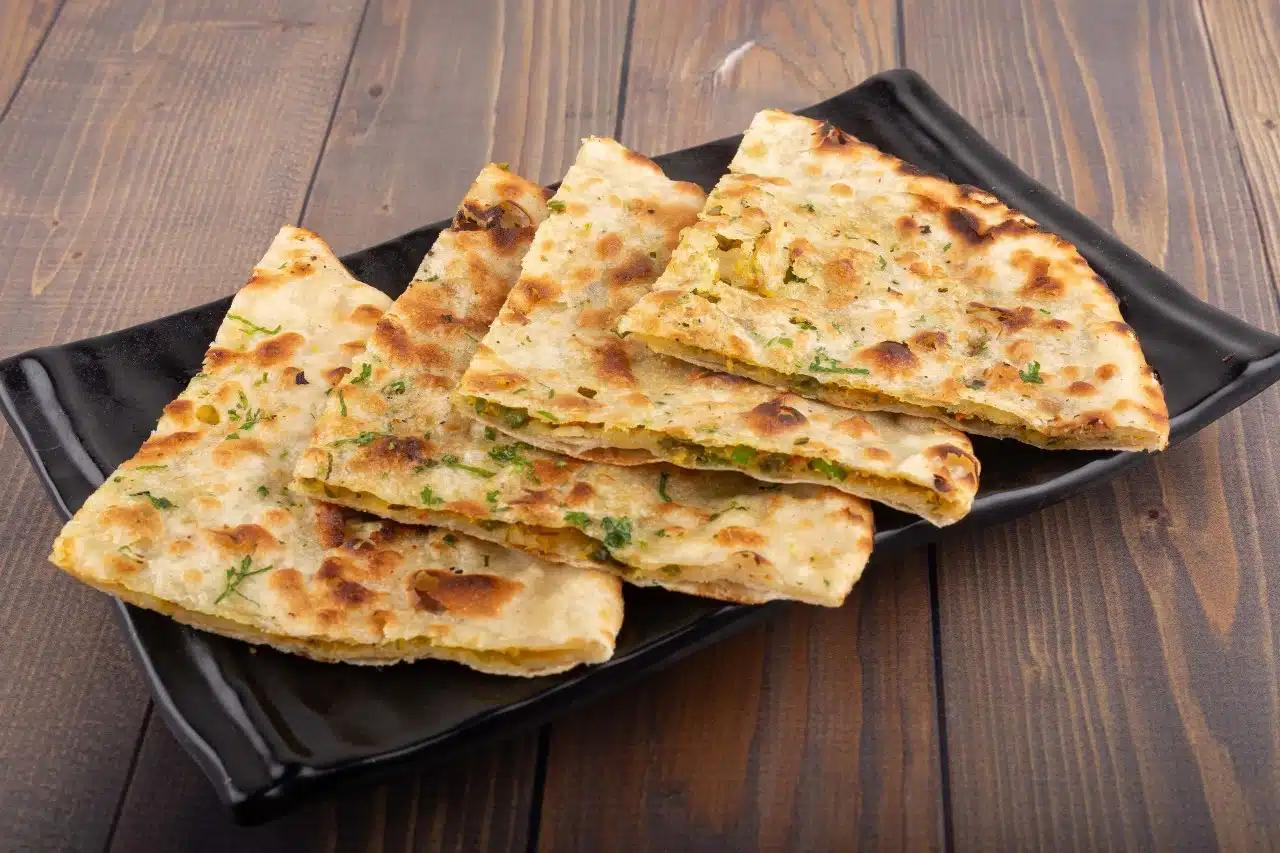paratha: (106, 238, 1072, 588)
